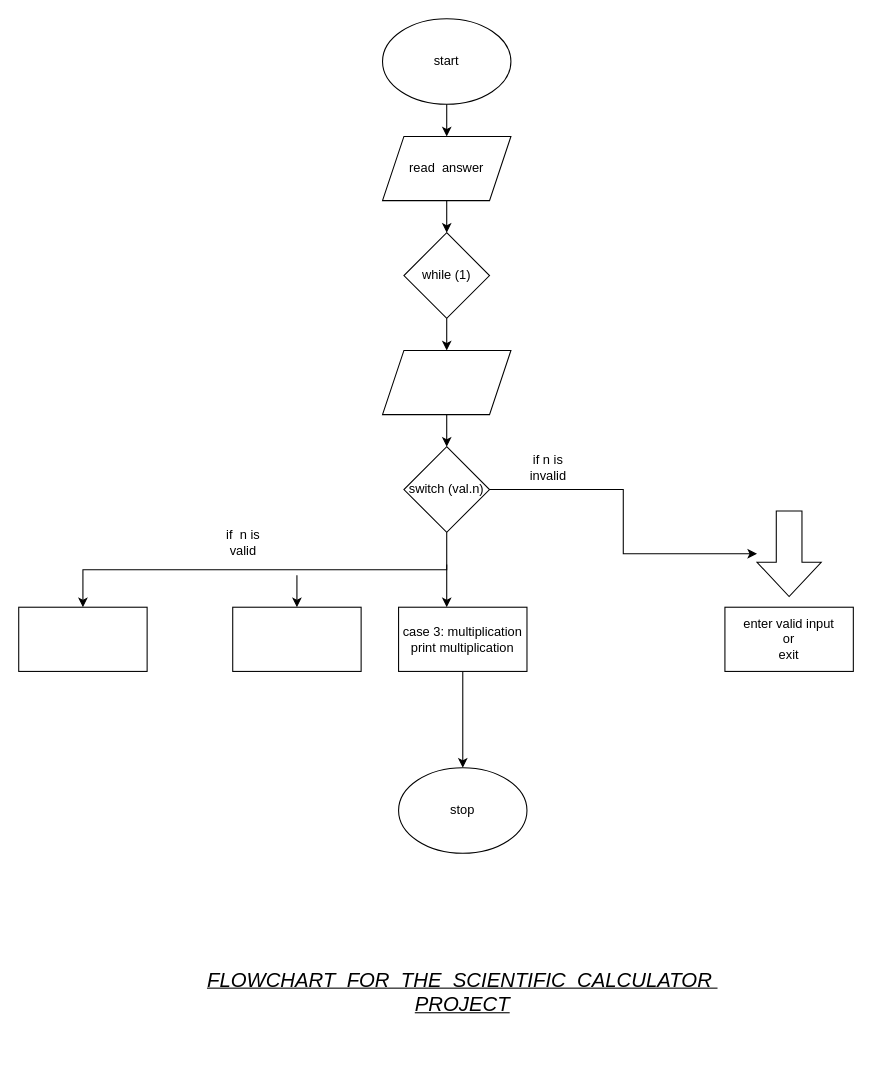
The diagram is 872 pixels wide and 1065 high, and some of its shapes have lost their labels. The box of each missing label's shape, as (x1, y1, x2, y2) in pixels:
case 1: addition print addition: (18, 606, 147, 671)
case 2: subtraction print subtraction: (232, 606, 361, 671)
read val.n: (381, 349, 511, 415)
